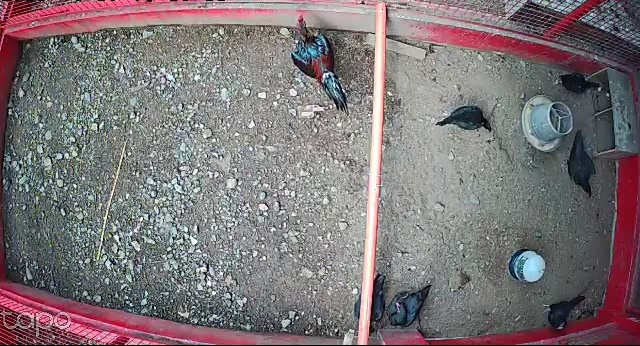Chicken: (560, 127, 602, 199), (354, 273, 392, 340), (385, 280, 433, 329), (540, 291, 588, 334), (436, 102, 493, 137), (554, 65, 610, 97)
Drinker: (508, 247, 548, 284)
Feeder: (520, 92, 574, 154)
Rooster: (288, 12, 354, 115)
